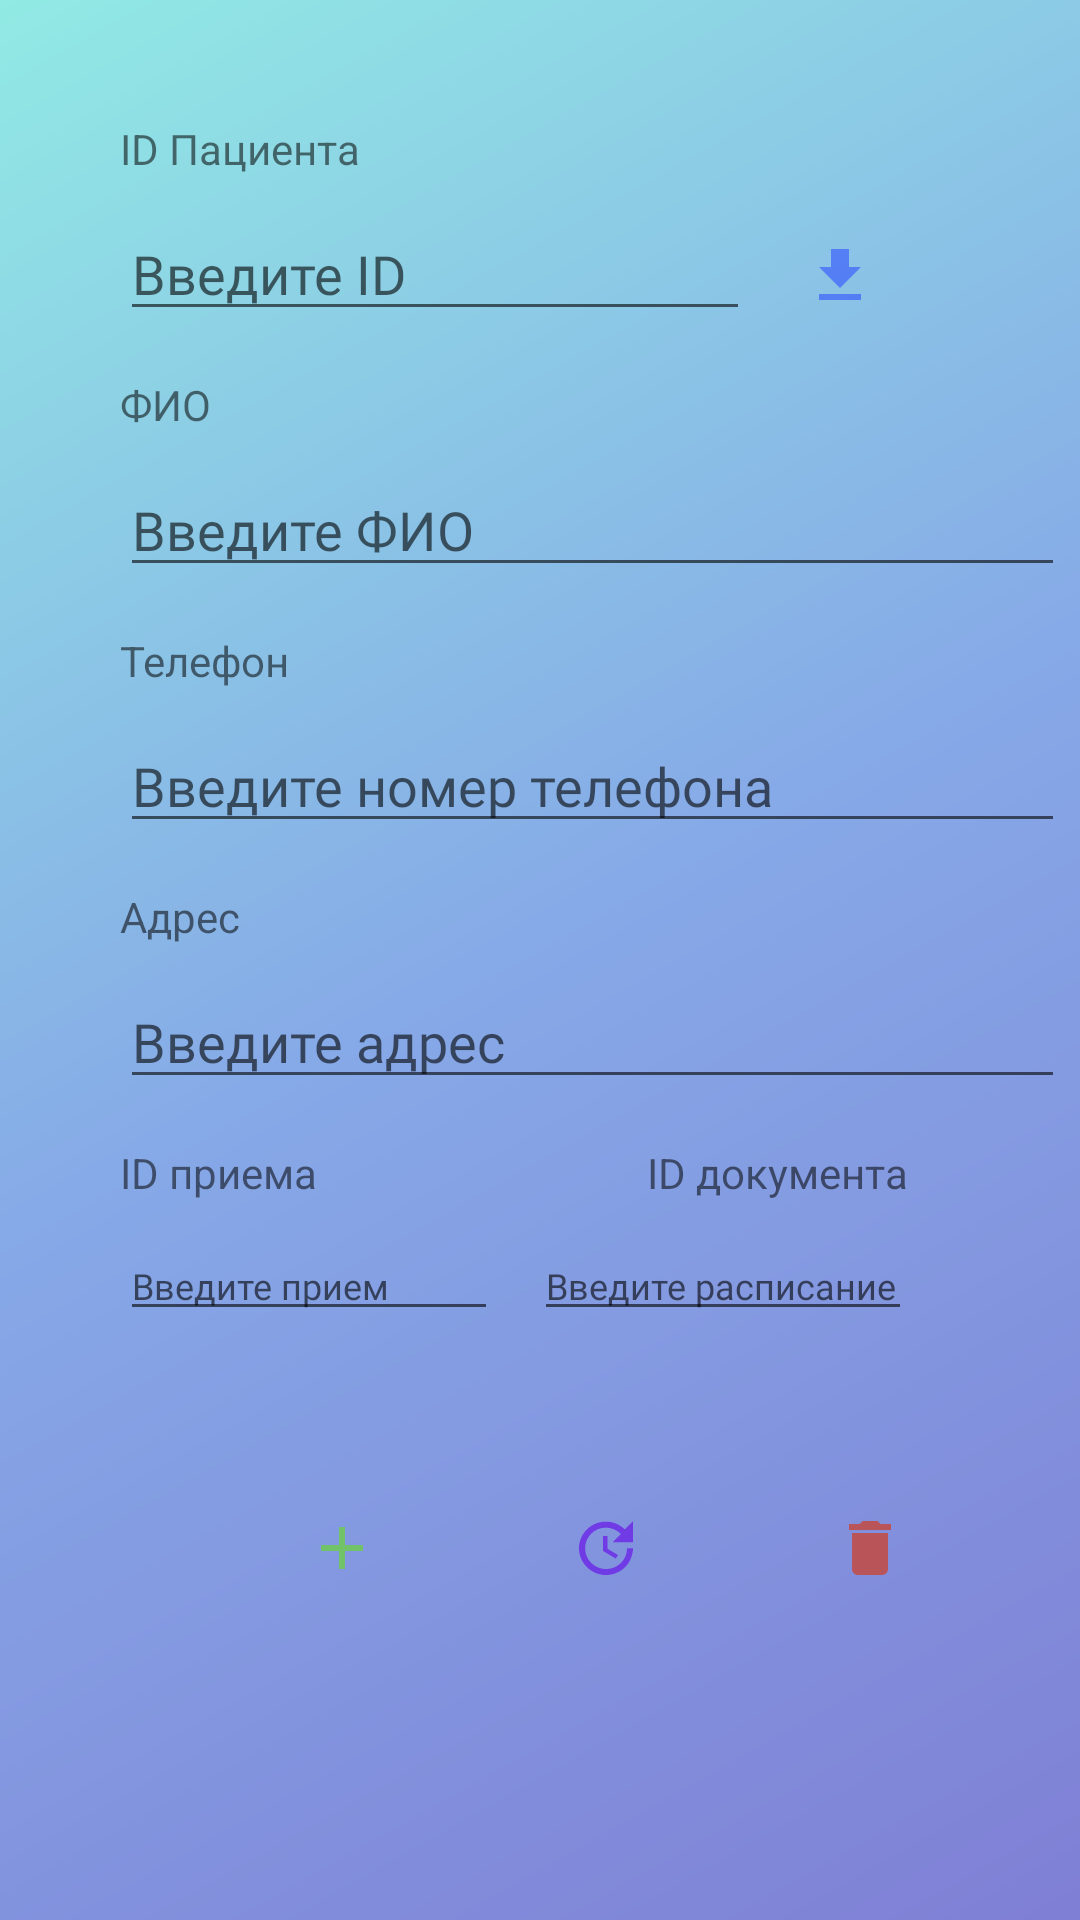

Icons on this 1080w x 1920h Android screen, each with its box as (x1, y1, x2, y2):
add: (321, 1527, 363, 1569)
delete: (849, 1521, 891, 1575)
get: (819, 249, 861, 300)
update: (579, 1521, 633, 1575)
